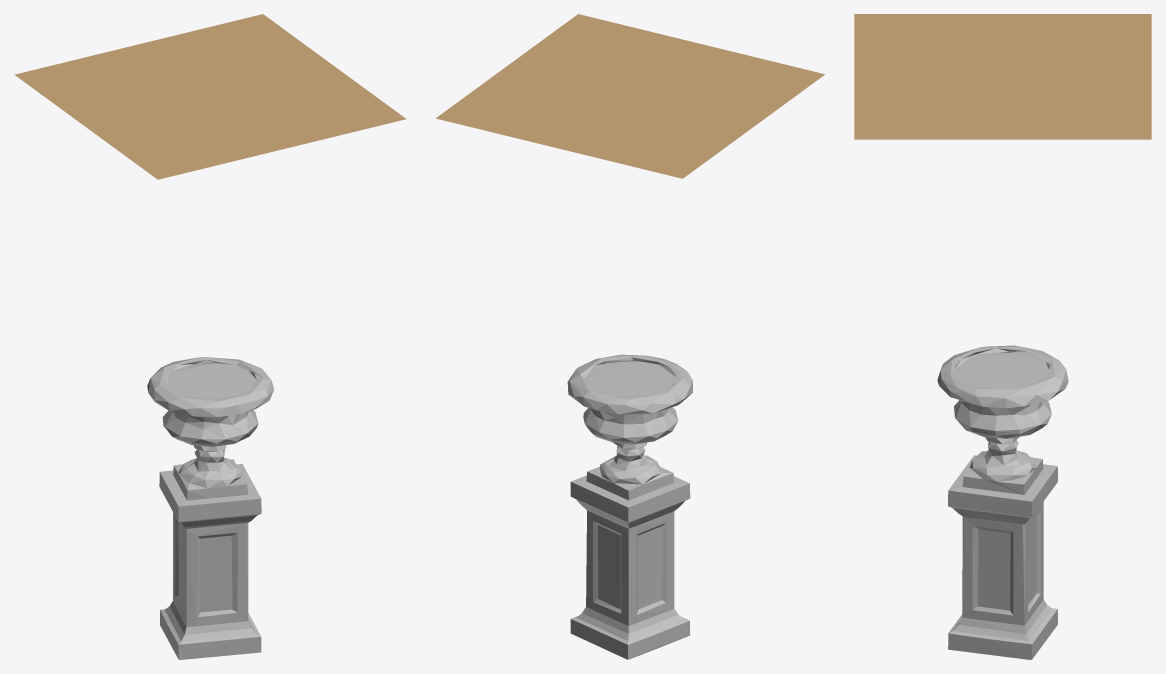
File: init.glb
The picture shows the model from 3 angles, left to right: view 1: azimuth 30°, elevation 25°; view 2: azimuth 150°, elevation 25°; view 3: azimuth 270°, elevation 25°; orthographic projection. The views are drawn at different scales.
Visible parts, largest first — view 1: world, object.obj; view 2: world, object.obj; view 3: world, object.obj.
Part boxes in pixels (left/top/right/bottom): world: left=14, top=14, right=406, bottom=179; object.obj: left=147, top=357, right=274, bottom=659; world: left=435, top=14, right=824, bottom=178; object.obj: left=567, top=354, right=692, bottom=659; world: left=854, top=14, right=1151, bottom=139; object.obj: left=937, top=345, right=1068, bottom=659.
Size of the model in its own units: 0.48 by 1 by 0.48.
